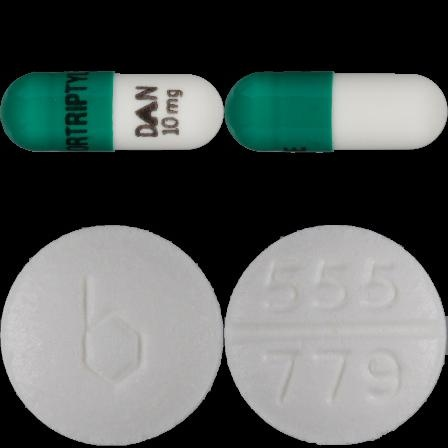33261-532: (0, 0, 224, 224)
